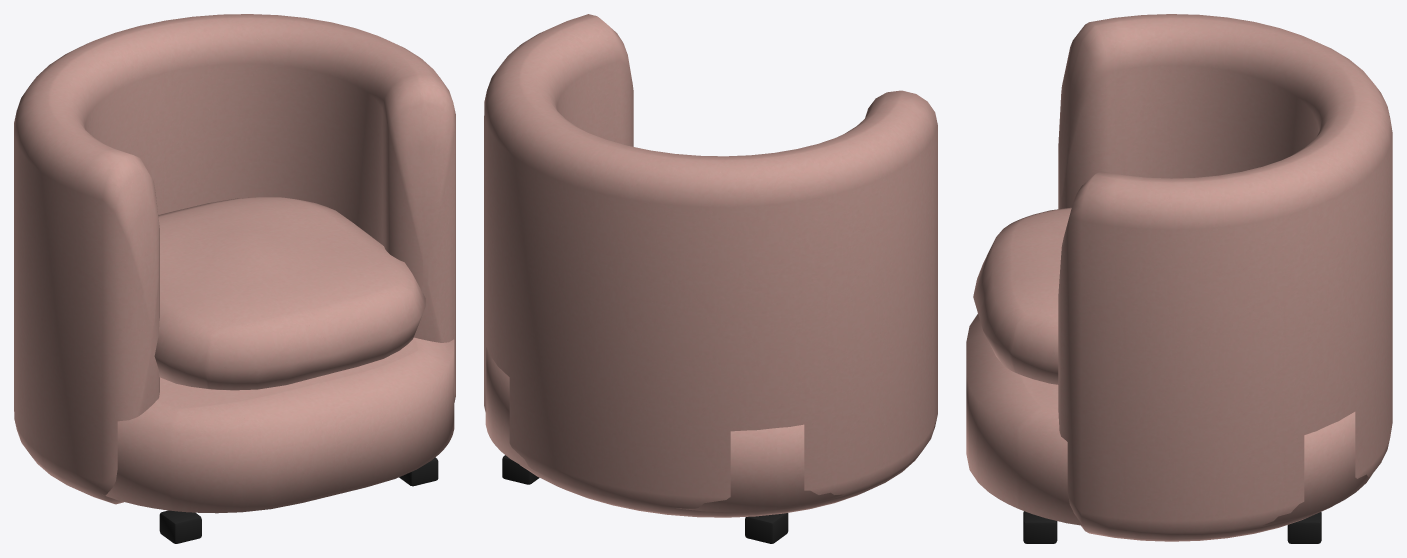
The model's file is butaca_envolvente_rosa.glb.
3 views of the same model, side by side, from view 1: azimuth 30°, elevation 25°; view 2: azimuth 150°, elevation 25°; view 3: azimuth 270°, elevation 25° (orthographic). The views are drawn at different scales.
Visible parts, largest first — view 1: butaca_envolvente_rosa; view 2: butaca_envolvente_rosa; view 3: butaca_envolvente_rosa.
Part boxes in pixels (<box>): butaca_envolvente_rosa: <box>14,14,455,543</box>; butaca_envolvente_rosa: <box>484,14,937,543</box>; butaca_envolvente_rosa: <box>966,14,1392,543</box>.
Size of the model in its own units: 0.82 by 0.74 by 0.755.
2 materials, 1 textured.
